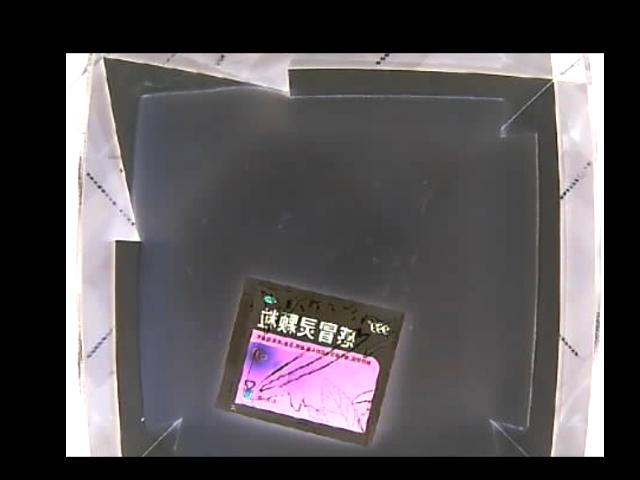Medicine: (213, 274, 409, 445)
